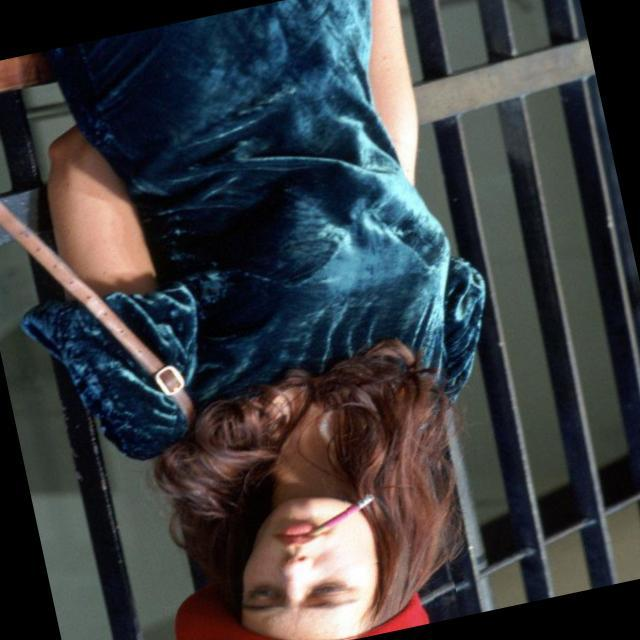cigarette: (283, 490, 402, 554)
